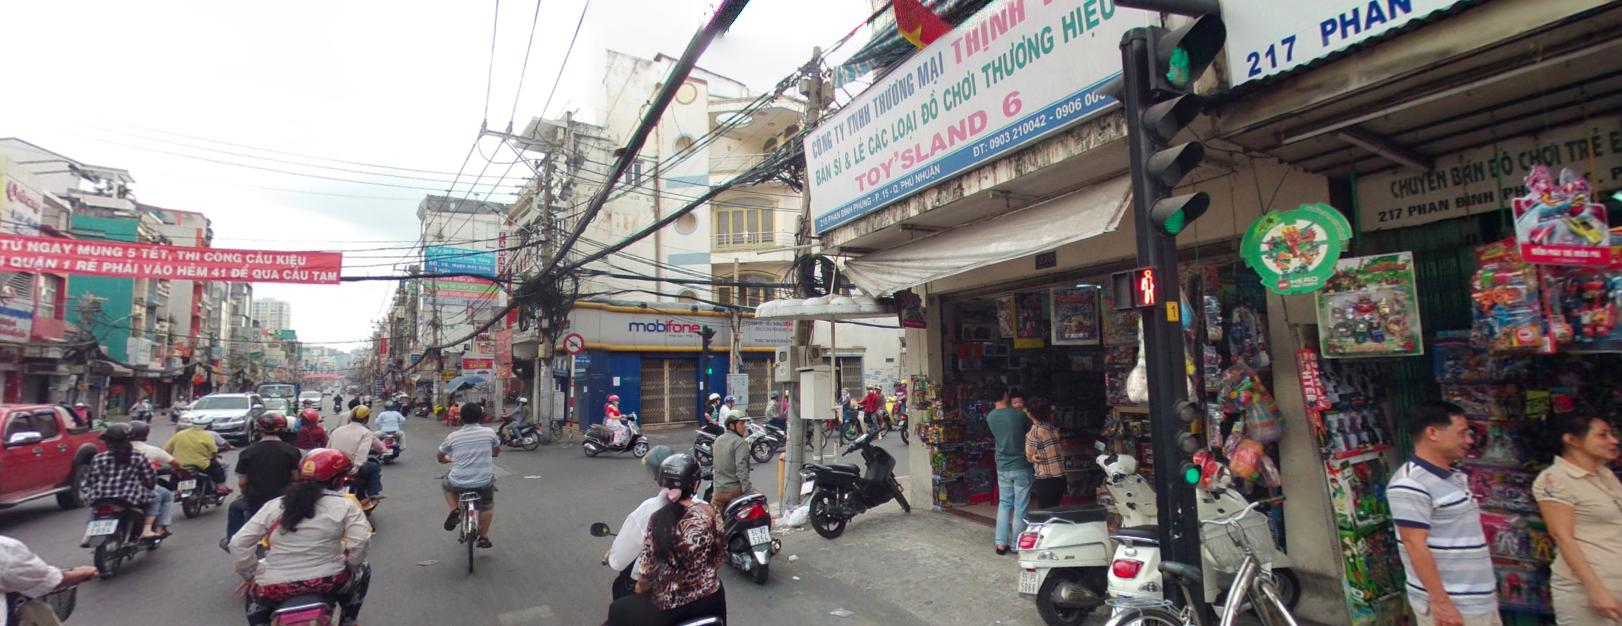Cam con lai: (563, 332, 583, 353)
